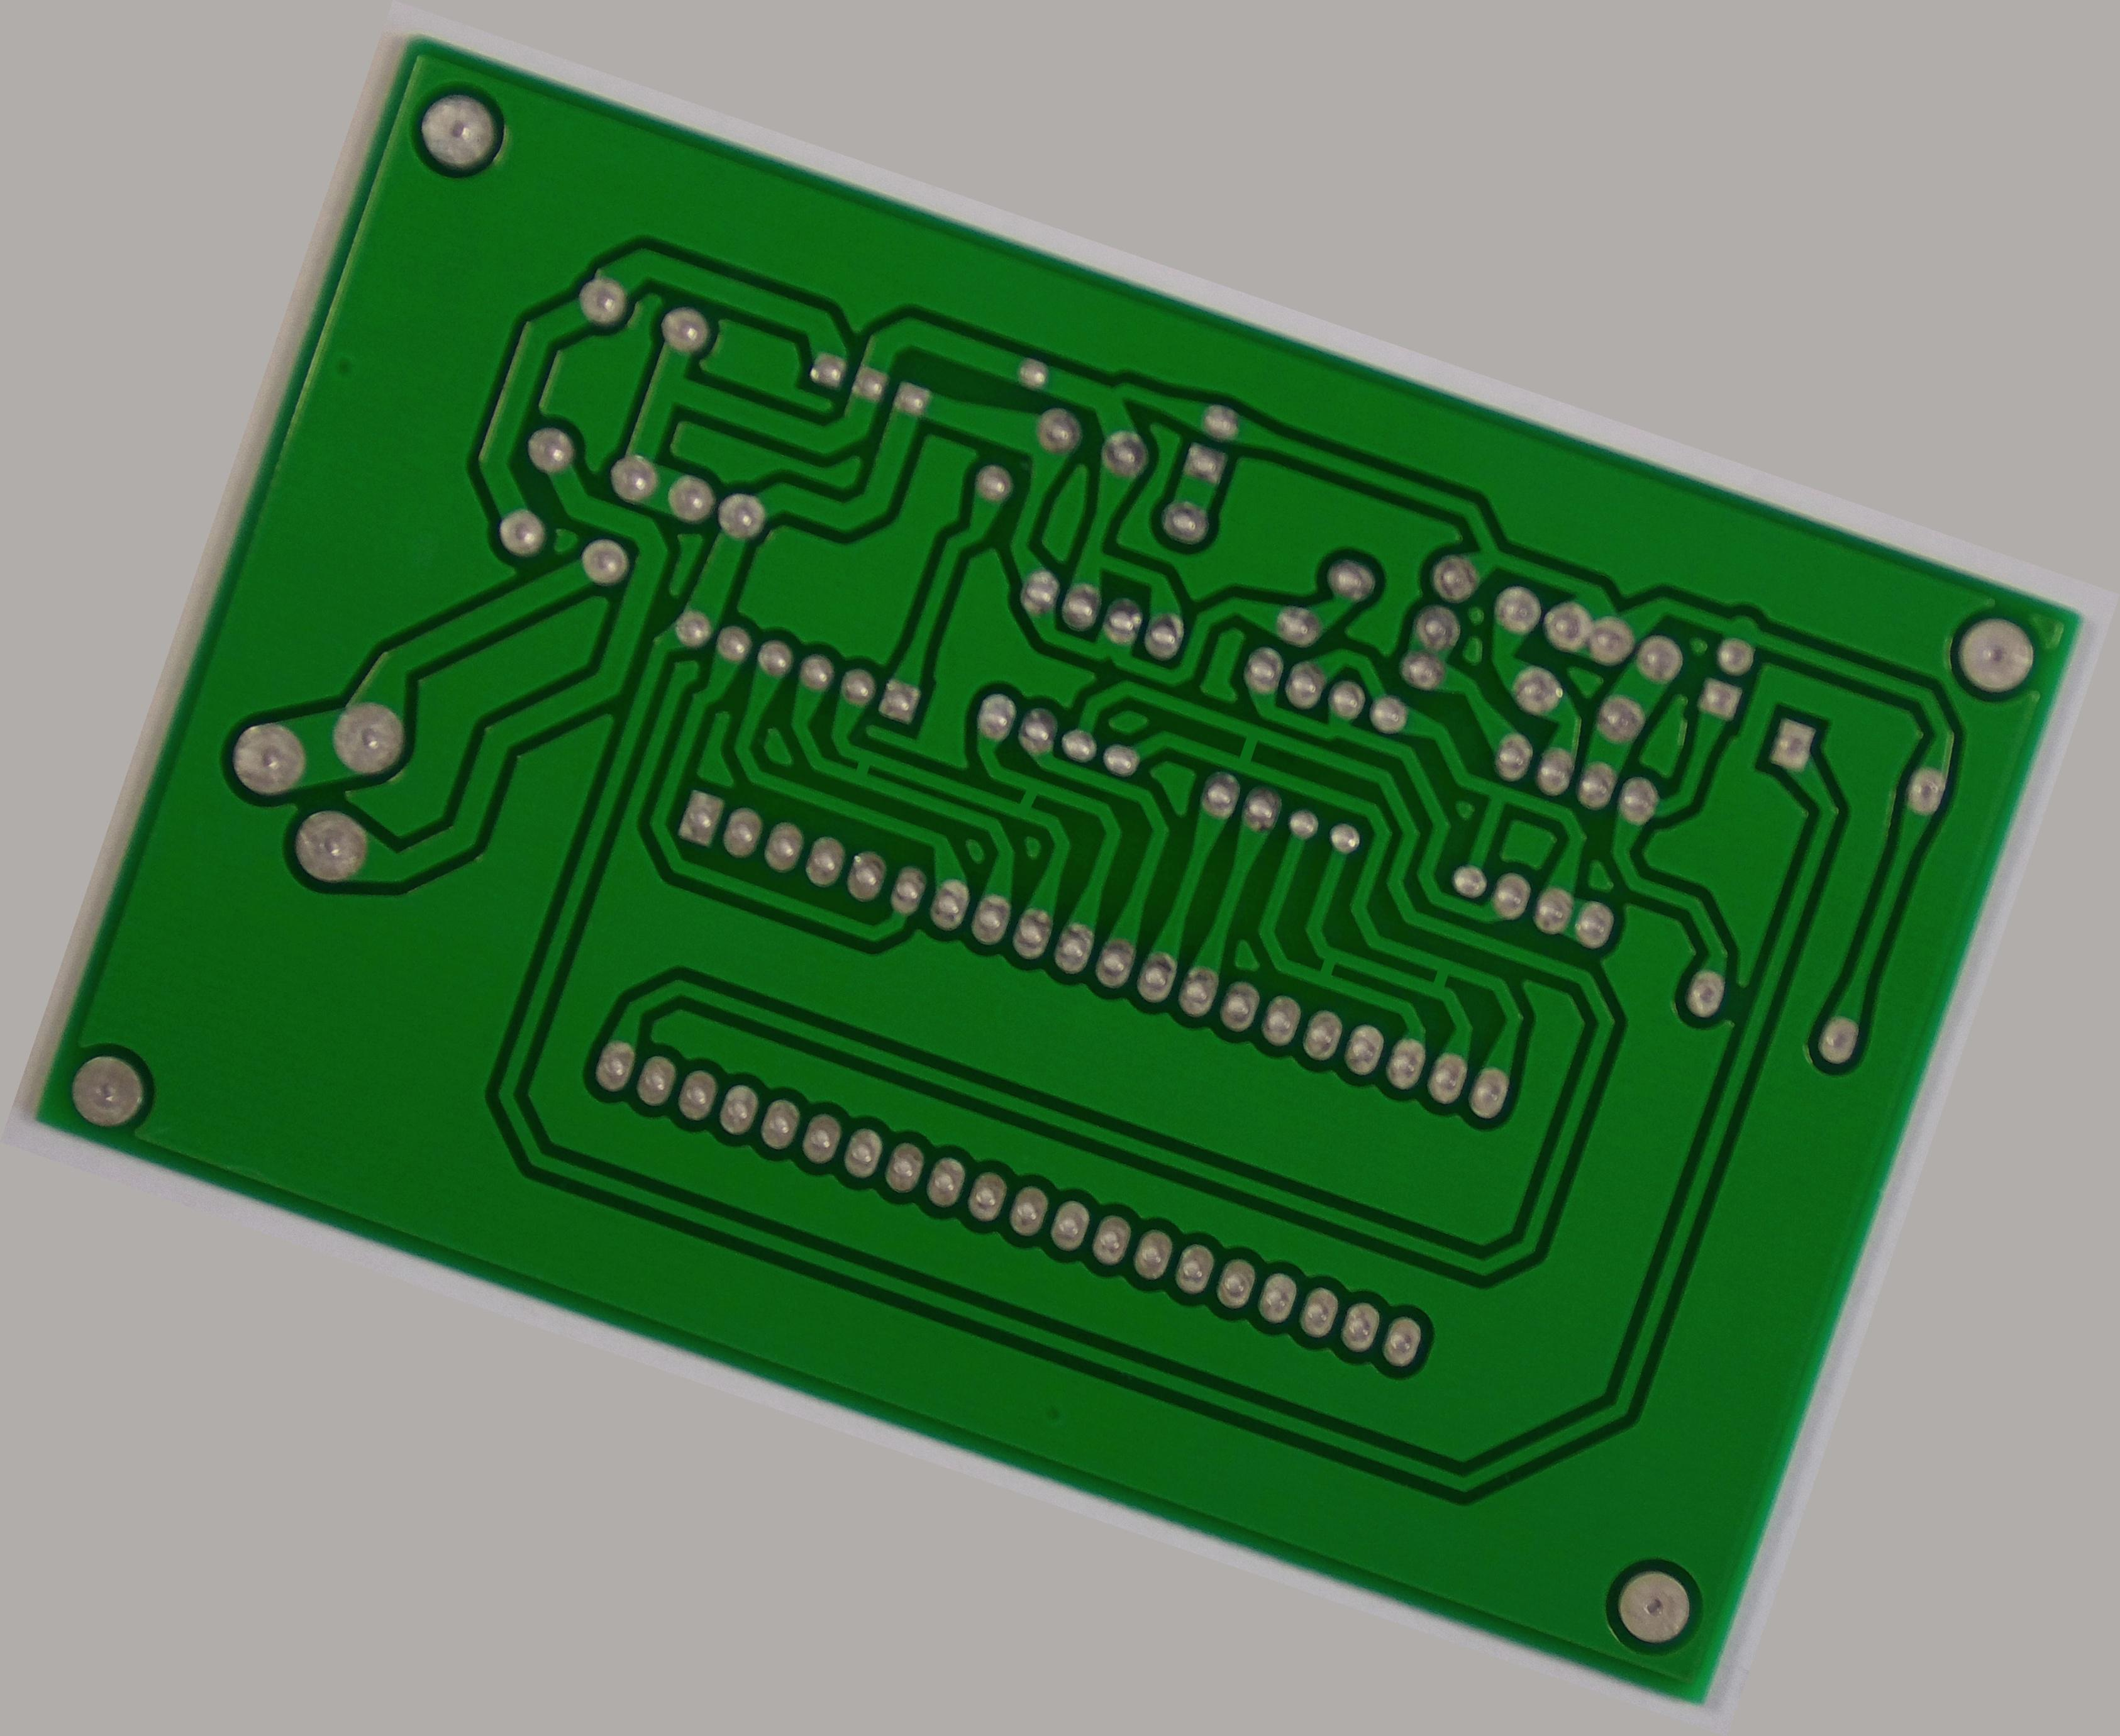short: (1206, 706, 1287, 785), (1291, 926, 1365, 998), (995, 761, 1062, 829), (1409, 944, 1470, 1009), (828, 734, 894, 794)
